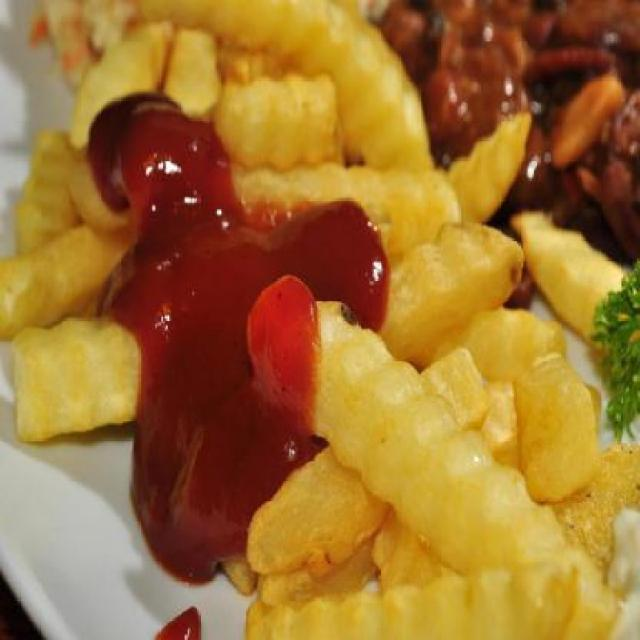French fries: (237, 281, 623, 617), (12, 222, 526, 448), (242, 354, 490, 594), (129, 0, 437, 177), (460, 298, 591, 506), (500, 178, 640, 370), (251, 560, 584, 640), (0, 220, 165, 351), (373, 218, 529, 354), (210, 160, 464, 236), (68, 26, 220, 142), (213, 74, 344, 168), (450, 94, 536, 212), (8, 120, 70, 258)
